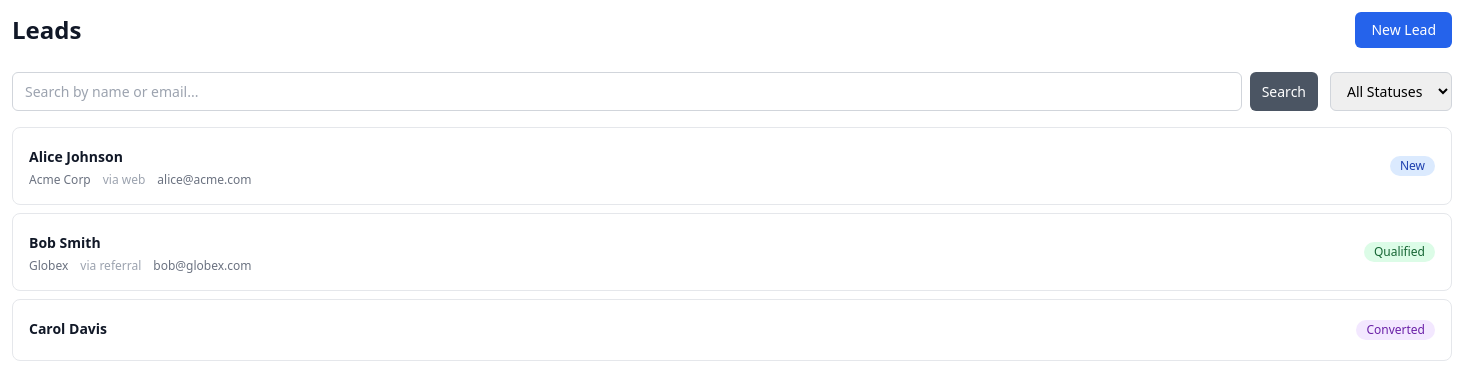
Test case: LeadsPage — status filter › US4-AC1: selecting a status filter shows only matching leads
Expected: the link "Alice Johnson" is shown, [29,147,123,166]
// Change status filter to "qualified"
Step 1. Select "Qualified" in the dropdown named "filter by status" → (1391, 92), box [1330,72,1452,111]
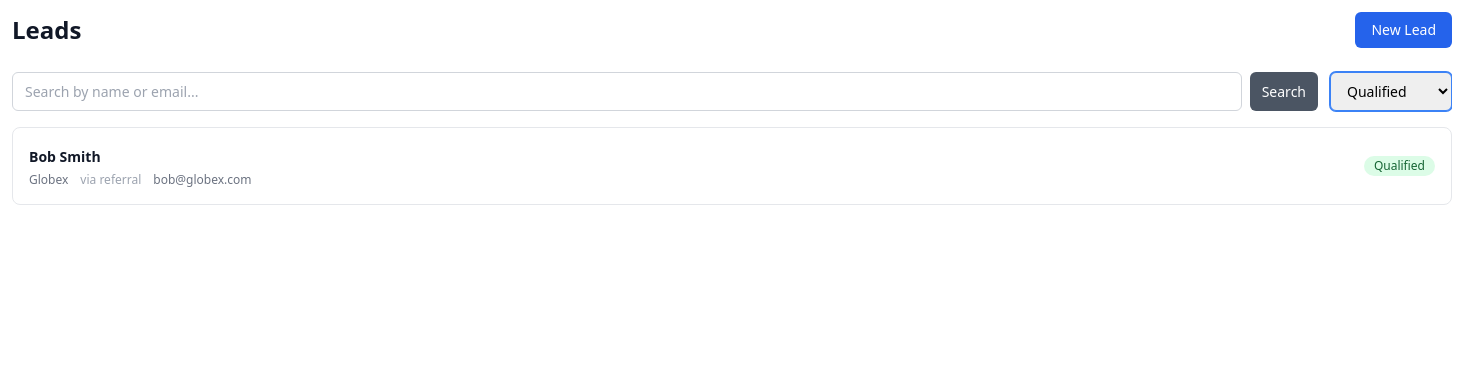
Expected: the link "Bob Smith" is shown, [29,147,101,166]
Now the link "Alice Johnson" is gone
Now the link "Carol Davis" is gone
